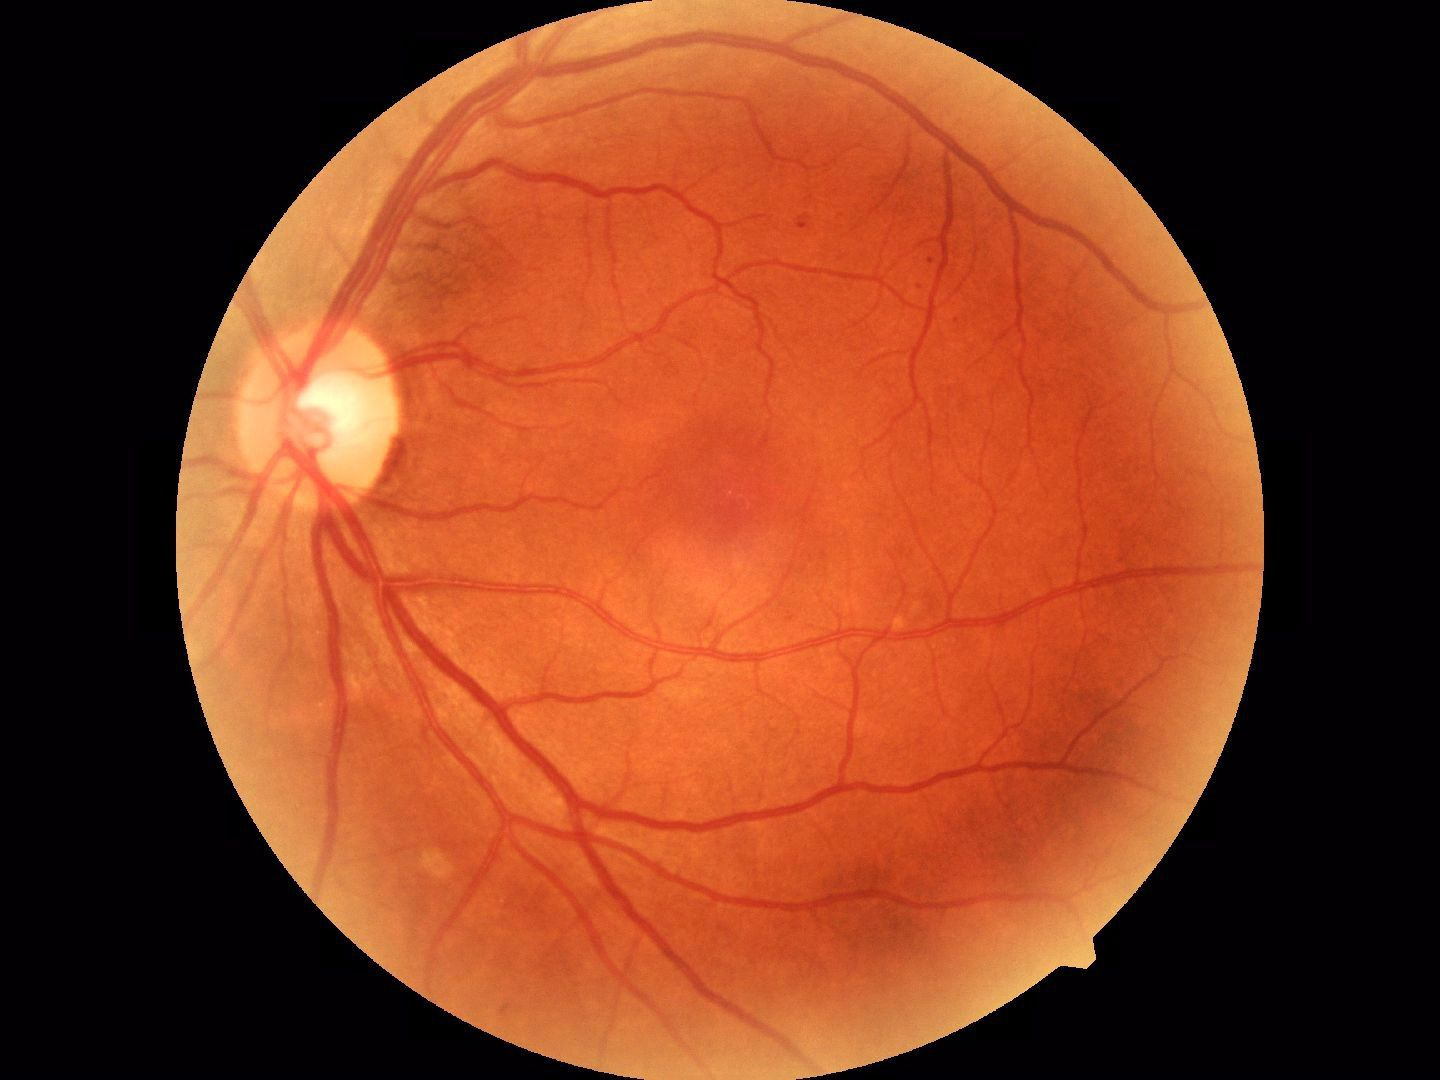Arterioles: (840, 607, 1096, 811), (651, 189, 962, 345)
Optic-Disc: (235, 320, 400, 508)
Venules: (308, 549, 481, 710), (348, 158, 414, 285)
